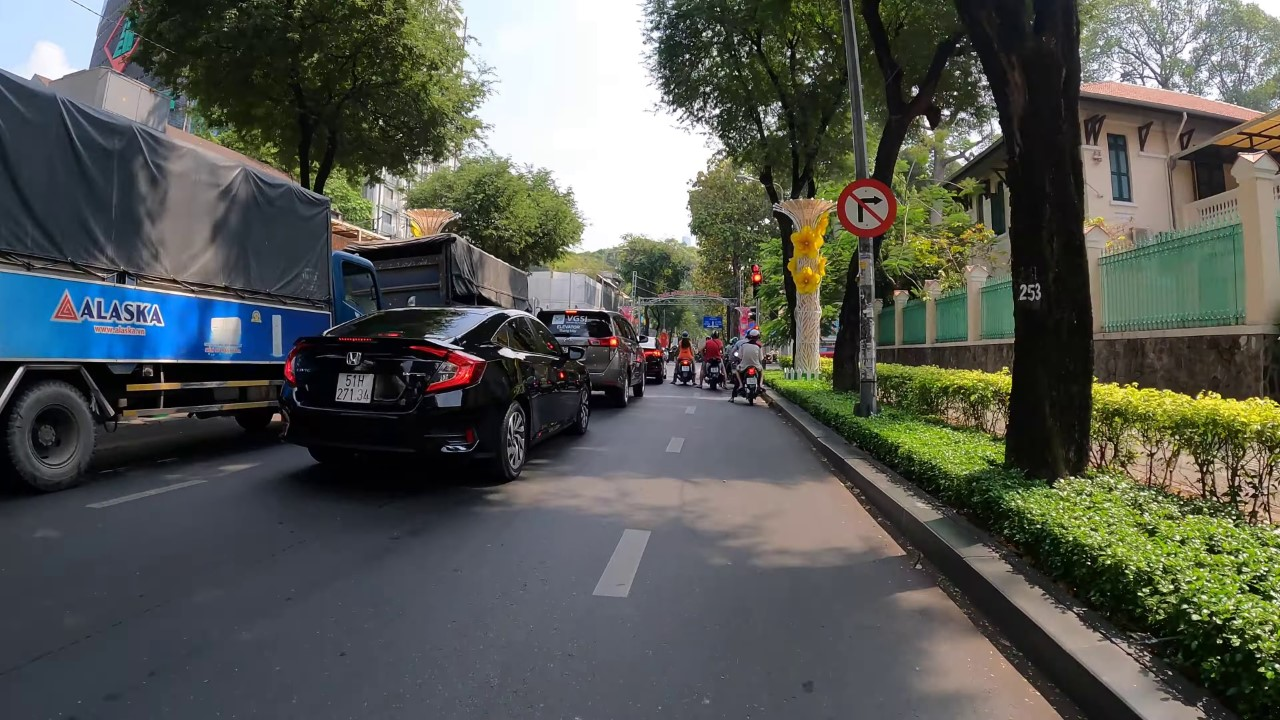cam_re_phai: (835, 177, 897, 238)
